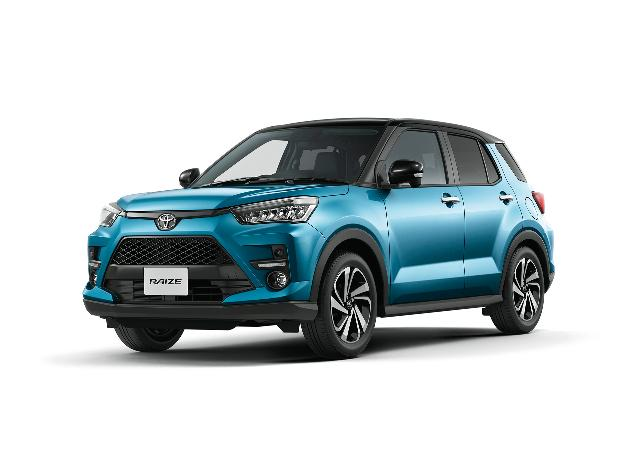toyota: (82, 117, 556, 359)
